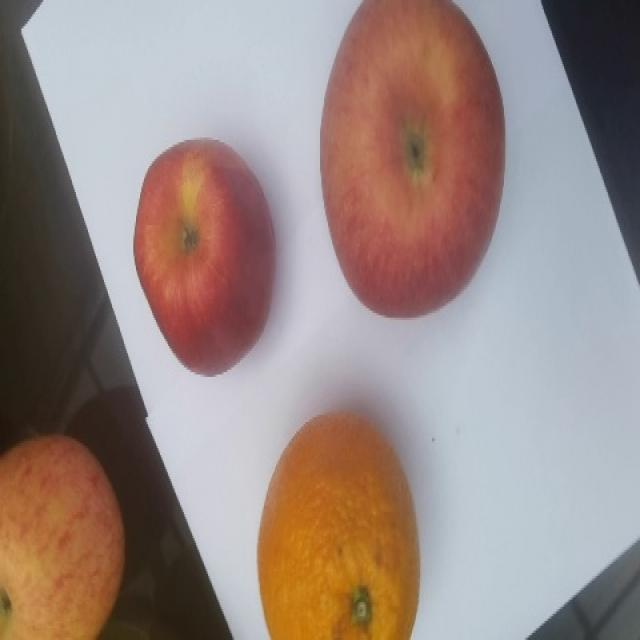Apple: (319, 0, 506, 318), (132, 136, 276, 377), (0, 432, 126, 639)
Orange: (256, 410, 421, 639)
